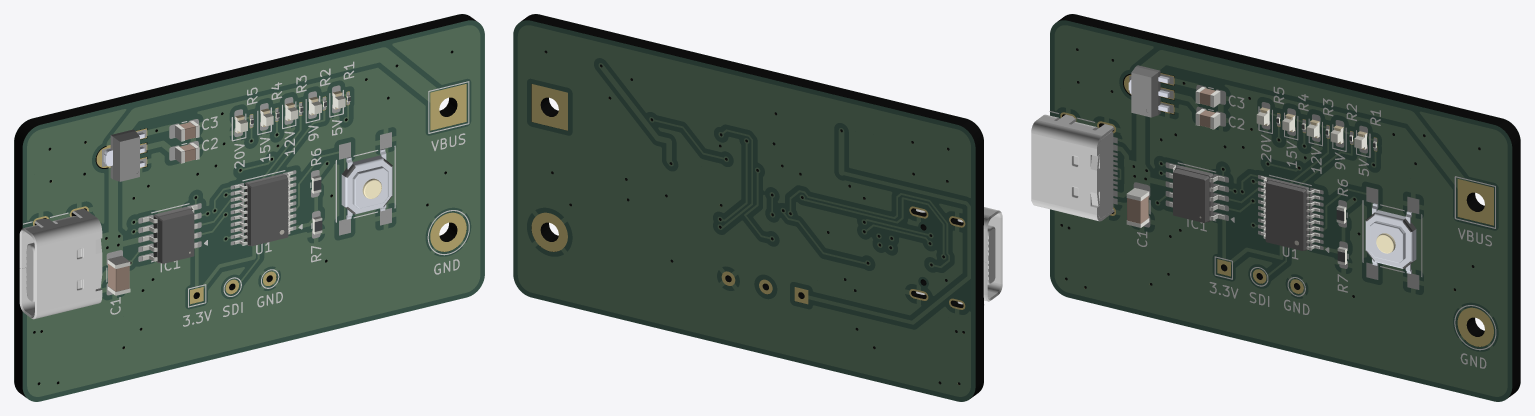
Rendered from usb_trigger_board.glb.
3 renders of one model, left to right at view 1: azimuth 30°, elevation 25°; view 2: azimuth 150°, elevation 25°; view 3: azimuth 330°, elevation 25°, orthographic.
Parts seen in each view (by area): view 1: Shape (×15); view 2: Shape (×5); view 3: Shape (×15).
Part boxes in pixels (x1,y1,x2,y2): Shape (×15): [14, 14, 484, 401]; Shape (×5): [513, 14, 1000, 401]; Shape (×15): [1031, 14, 1520, 401].
Bounding box in the file's own units: 51.06 × 29 × 4.71.
